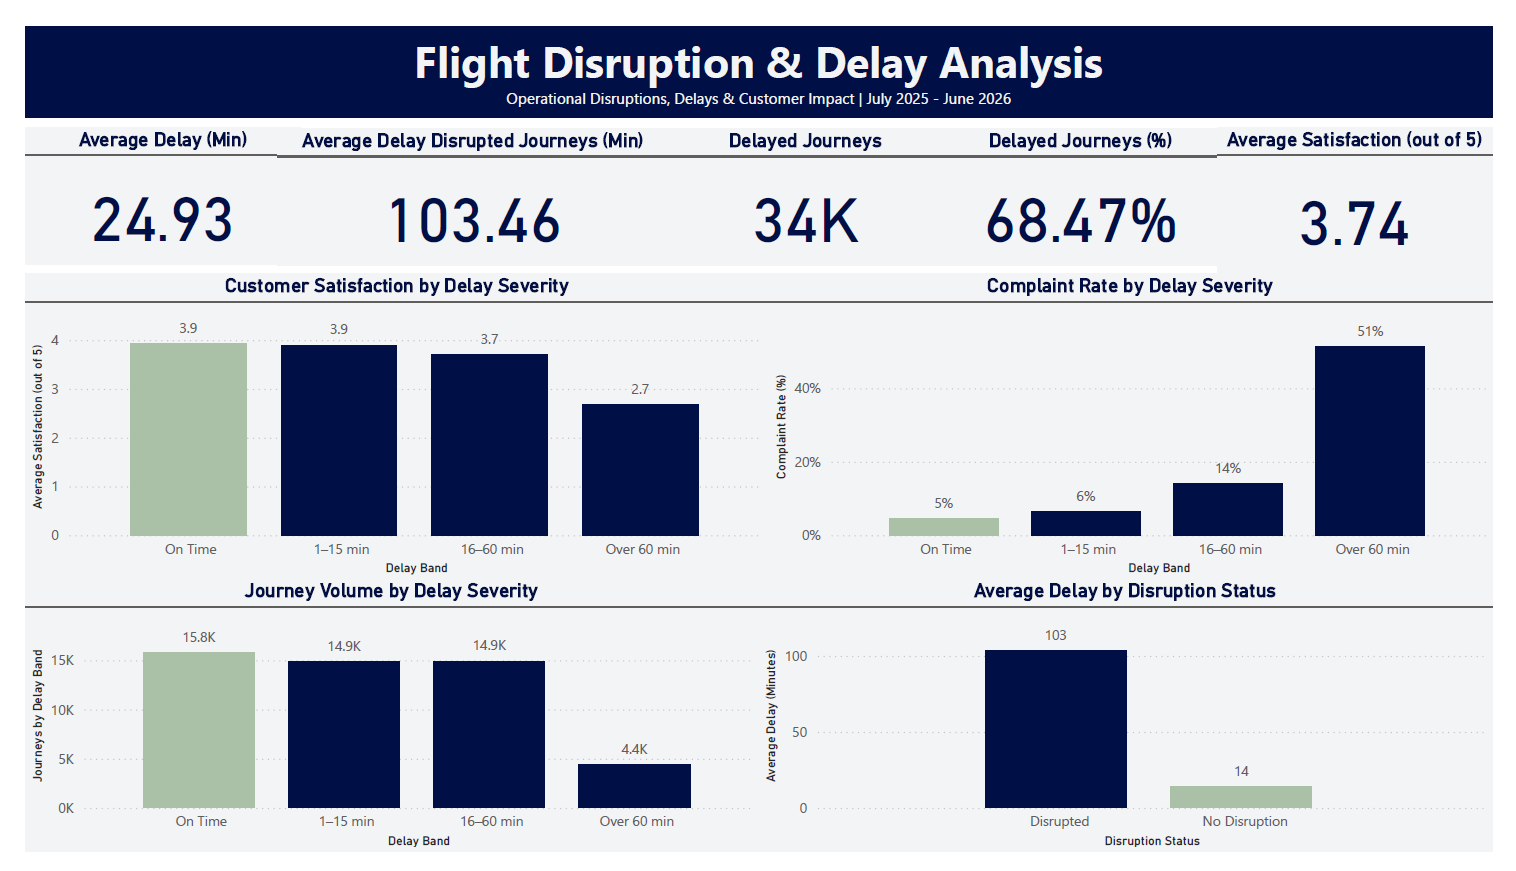

What the dashboard file says about the page in this screenshot:
{"tool":"powerbi","page":{"name":"Disruption & Delay Analysis","canvas":[1280,720],"ordinal":1},"visuals":[{"type":"textbox","box":[0,0,1280,79.2],"z":0},{"type":"card","title":"Average Delay (Min)","fields":{"Values":["Avg(fact_customer_journey.Average Delay (Minutes))"]},"box":[0,87.9,239.7,120.4],"z":1000},{"type":"card","title":"Delayed Journeys","fields":{"Values":["dim_date.Delayed Journeys"]},"box":[560.8,88.9,239.7,120.4],"z":2000},{"type":"card","title":"Delayed Journeys (%)","fields":{"Values":["fact_customer_journey.Delayed Journeys (%)"]},"box":[800.5,88.9,239.7,120.4],"z":3000},{"type":"card","title":"Average Satisfaction (out of 5)","fields":{"Values":["fact_customer_journey.Average Satisfaction (out of 5)"]},"box":[1040.3,87.9,239.7,128],"z":4000},{"type":"clusteredColumnChart","title":"Customer Satisfaction by Delay Severity","fields":{"Category":["fact_customer_journey.Delay Band"],"Y":["fact_customer_journey.Average Satisfaction (out of 5)"]},"box":[0,215.9,648.7,265.8],"z":5000},{"type":"clusteredColumnChart","title":"Complaint Rate by Delay Severity","fields":{"Category":["fact_customer_journey.Delay Band"],"Y":["fact_customer_journey.Complaint Rate by Delay"]},"box":[648.7,215.9,631.3,265.8],"z":6000},{"type":"card","title":"Average Delay  Disrupted Journeys (Min)","fields":{"Values":["fact_customer_journey.Average Delay - Disrupted"]},"box":[220.2,88.9,340.6,120.4],"z":7000},{"type":"clusteredColumnChart","title":"Average Delay by Disruption Status","fields":{"Category":["fact_customer_journey.Disruption Status"],"Y":["dim_date.Average Delay (Minutes)"]},"box":[640,481.6,640,238.6],"z":8000},{"type":"clusteredColumnChart","title":"Journey Volume by Delay Severity","fields":{"Category":["fact_customer_journey.Delay Band"],"Y":["fact_customer_journey.Journeys by Delay Band"]},"box":[0,481.6,640,238.6],"z":9000}]}

Visuals, with their boxes in screenshot pixels (x1, y1, x2, y2), scaled from the page's 1280x720 canvas onto the 1516x871 screenshot:
textbox: pyautogui.locateOnScreen(0, 0, 1515, 96)
"Average Delay (Min)" card: pyautogui.locateOnScreen(0, 106, 284, 252)
"Delayed Journeys" card: pyautogui.locateOnScreen(664, 108, 948, 253)
"Delayed Journeys (%)" card: pyautogui.locateOnScreen(948, 108, 1232, 253)
"Average Satisfaction (out of 5)" card: pyautogui.locateOnScreen(1232, 106, 1515, 261)
"Customer Satisfaction by Delay Severity" clusteredColumnChart: pyautogui.locateOnScreen(0, 261, 768, 583)
"Complaint Rate by Delay Severity" clusteredColumnChart: pyautogui.locateOnScreen(768, 261, 1515, 583)
"Average Delay  Disrupted Journeys (Min)" card: pyautogui.locateOnScreen(261, 108, 664, 253)
"Average Delay by Disruption Status" clusteredColumnChart: pyautogui.locateOnScreen(758, 583, 1515, 870)
"Journey Volume by Delay Severity" clusteredColumnChart: pyautogui.locateOnScreen(0, 583, 758, 870)
